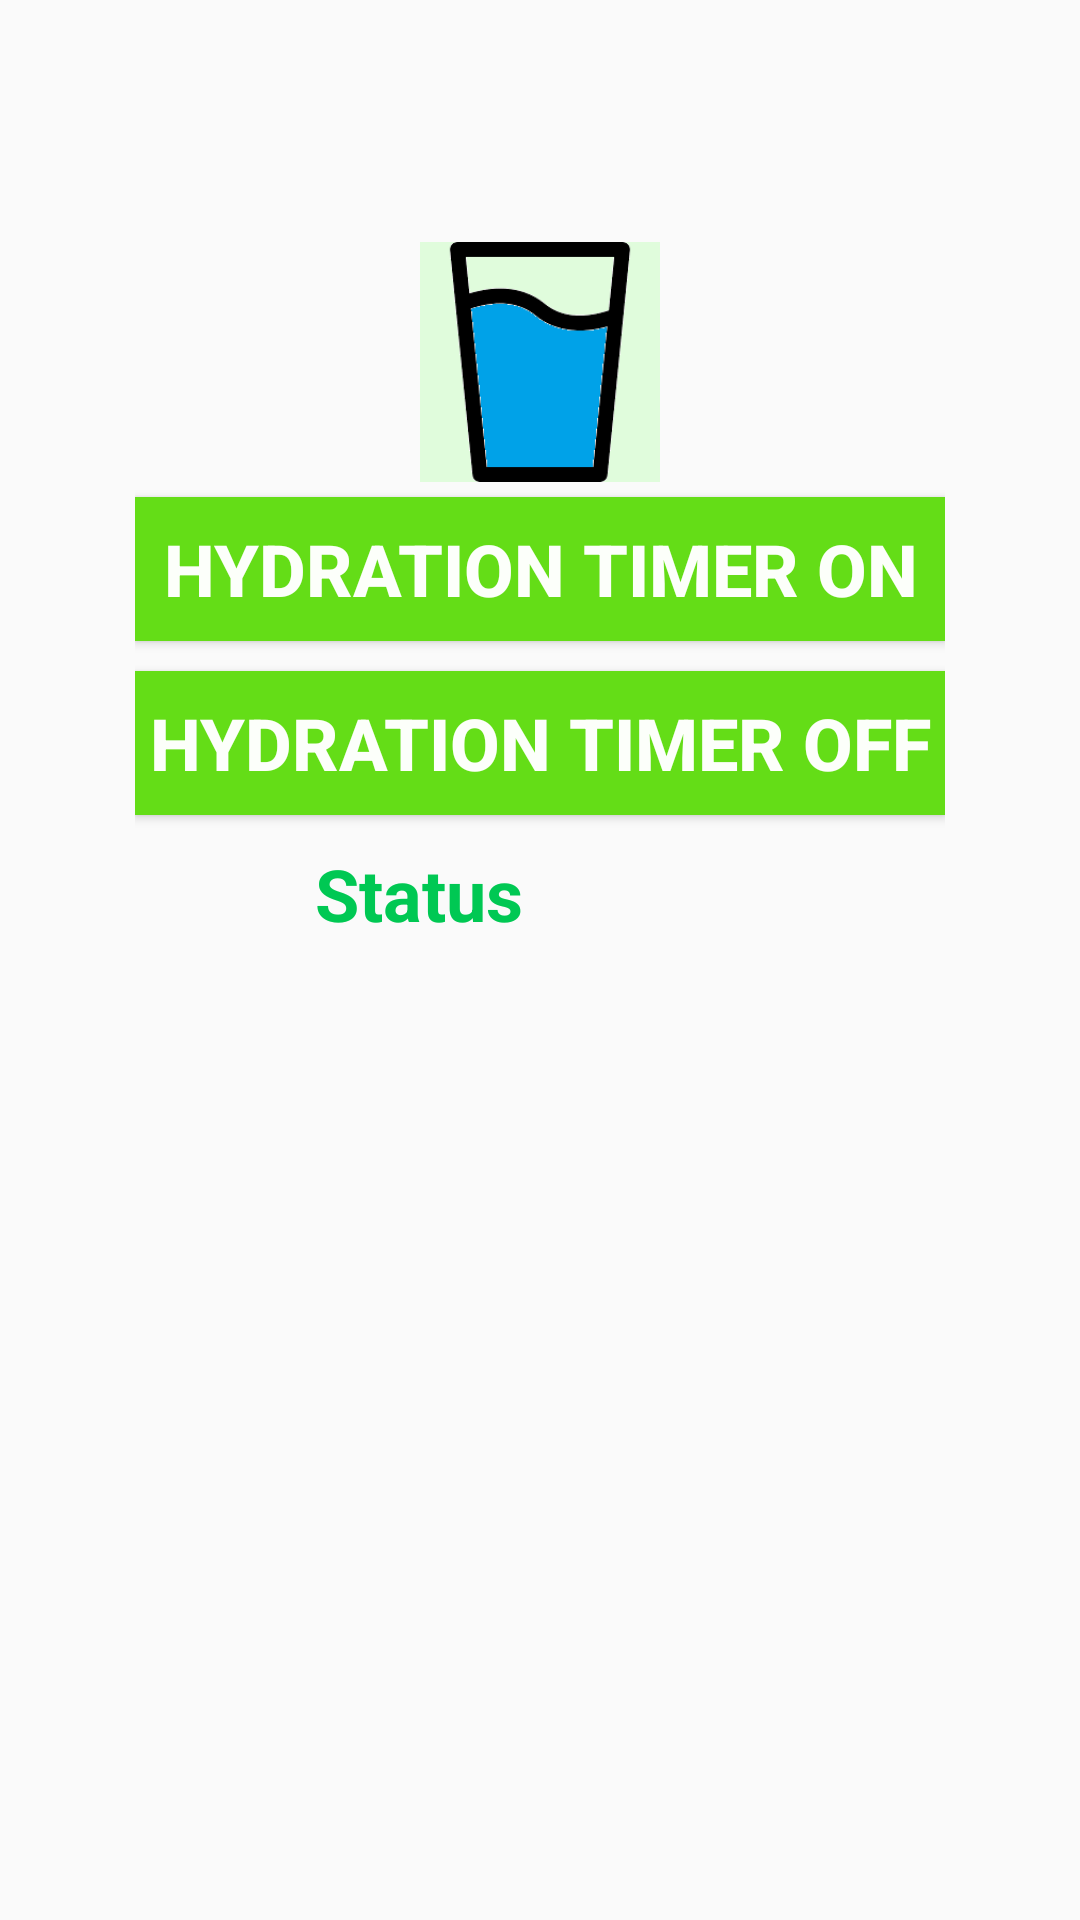

Icons on this 1080w x 1920h Android screen, each with the point to tap as (x=x, y=y):
glass: (x=540, y=362)
